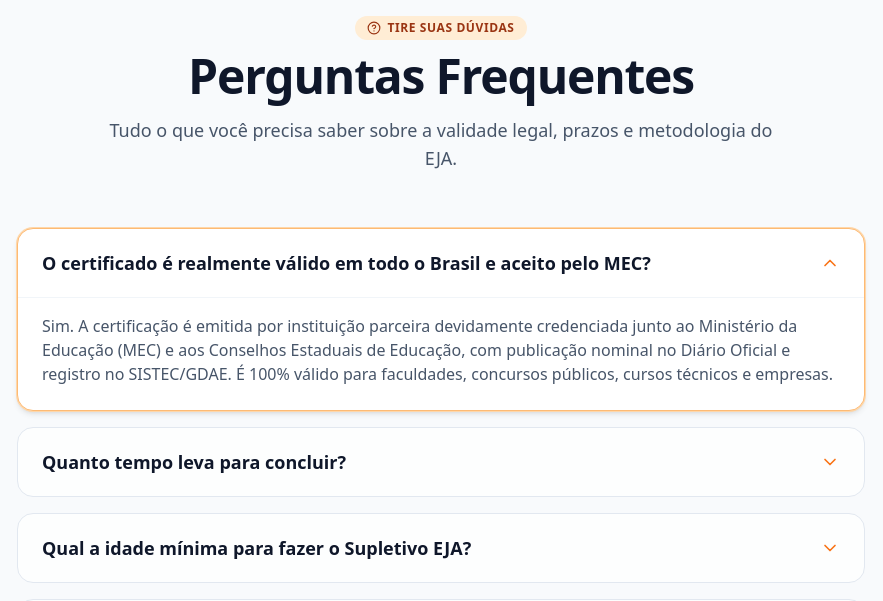
Test: Supletivo Brasil - Suite de Testes Completa › deve exibir resposta padrão aberta e alternar perguntas no FAQ
Check: the heading "Perguntas Frequentes" is shown, box x1=188 y1=43 x2=694 y2=108
Check: the text "A certificação é emitida por instituição parceira devidamente credenciada" is shown, box x1=42 y1=315 x2=833 y2=385
Click the button "Quanto tempo leva para concluir?" at (194, 462), box x1=18 y1=428 x2=864 y2=496
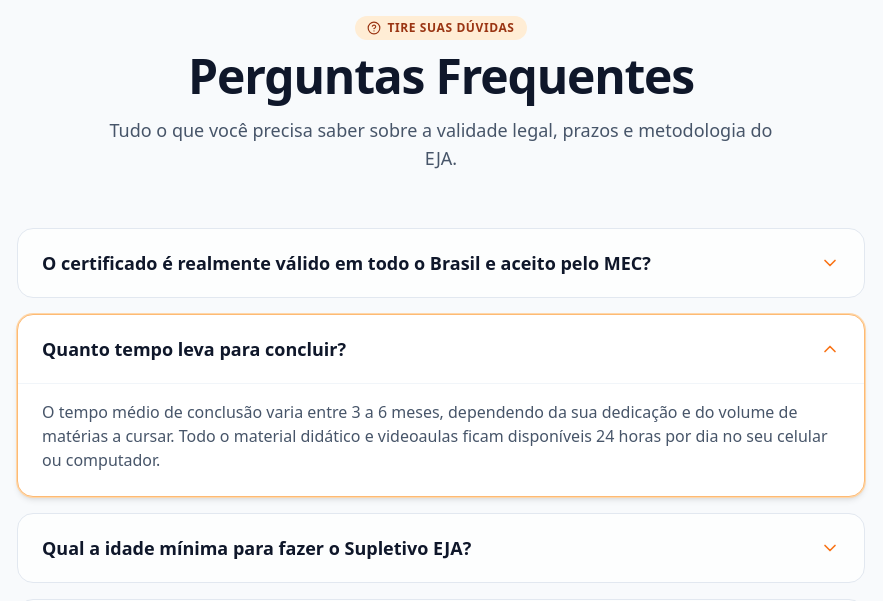
Check: the text "O tempo médio de conclusão varia entre 3 a 6 meses" is shown, box x1=42 y1=401 x2=828 y2=471
